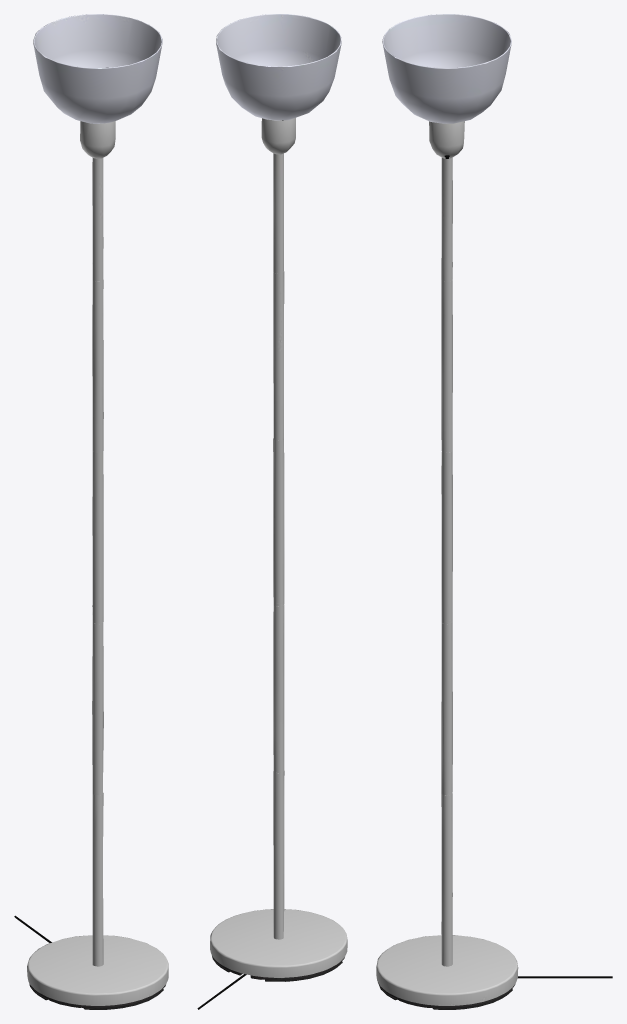
File: 19 - HEKTOGRAM Floor uplighter - silver-colourwhite.glb
3 views of the same model, side by side, from view 1: azimuth 30°, elevation 25°; view 2: azimuth 150°, elevation 25°; view 3: azimuth 270°, elevation 25° (orthographic). The views are drawn at different scales.
Parts seen in each view (by area): view 1: 40477726; view 2: 40477726; view 3: 40477726.
Part boxes in pixels (bbox=[...]): 40477726: bbox=[14, 14, 168, 1009]; 40477726: bbox=[197, 14, 347, 1009]; 40477726: bbox=[376, 14, 612, 1009].
Bounding box in the file's own units: 0.2404 × 1.76 × 0.4017.
Materials: 1 (1 with a texture image).
